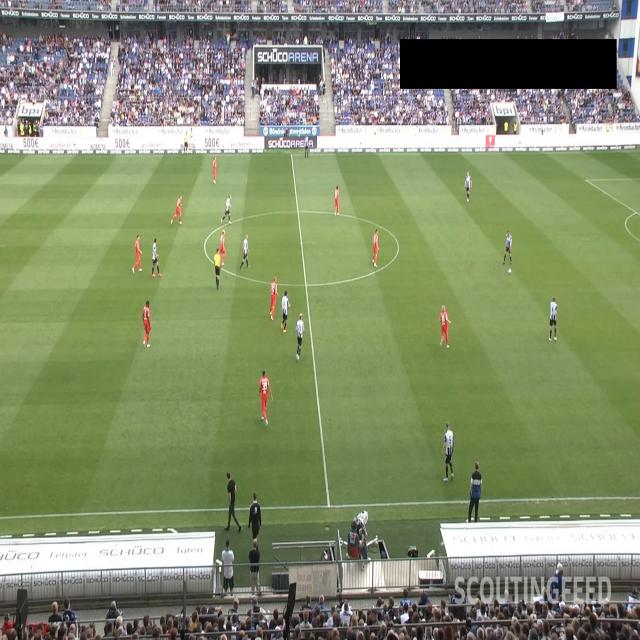ball: (508, 268, 512, 275)
